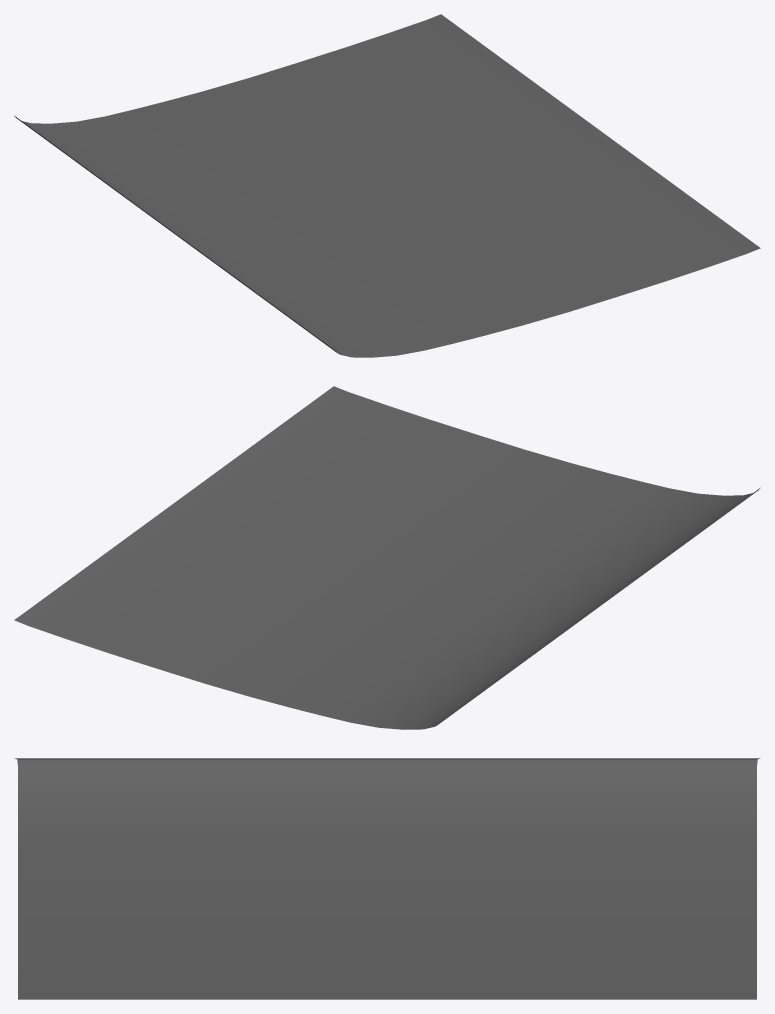
File: Book_8_book_front_8_0.obj
3 views of the same model, one above another, from view 1: azimuth 30°, elevation 25°; view 2: azimuth 150°, elevation 25°; view 3: azimuth 270°, elevation 25° (orthographic). The views are drawn at different scales.
Size of the model in its own units: 0.1938 by 0.00944 by 0.2552.
1 material, 1 textured.
